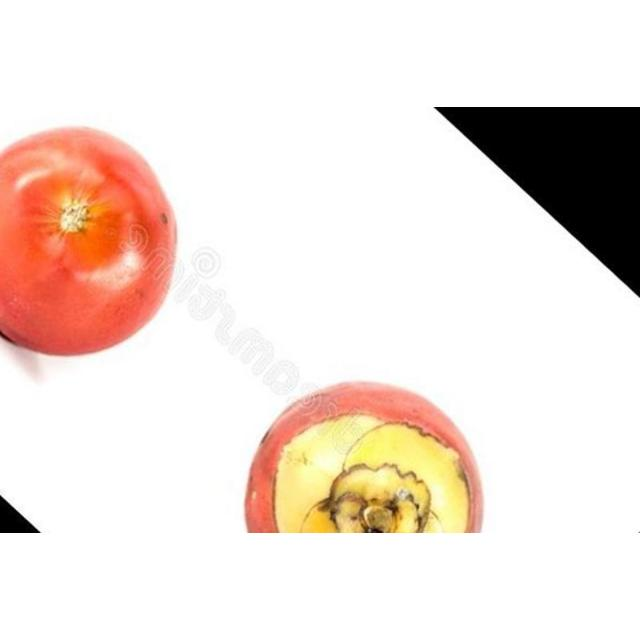good: (0, 126, 177, 358), (243, 383, 484, 533)
